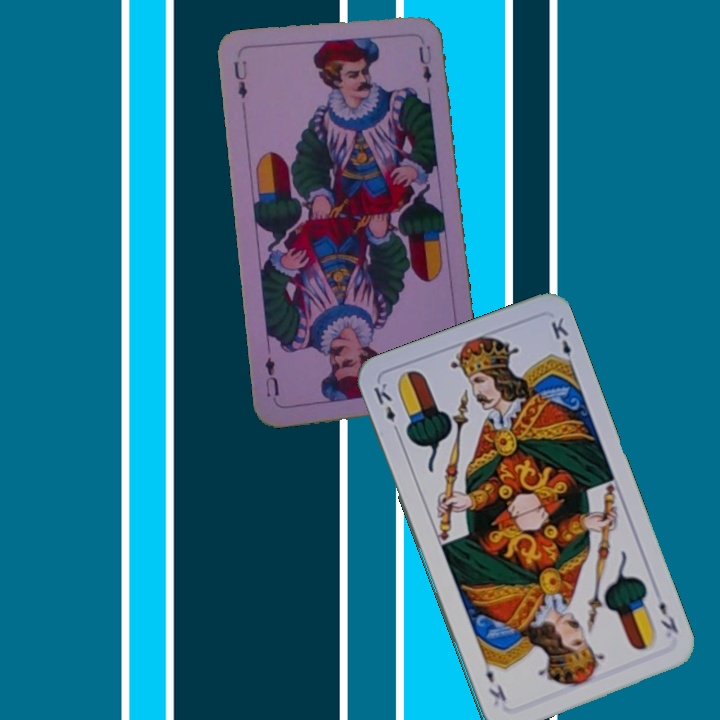EK: (369, 378, 403, 437), (655, 597, 681, 636)
EU: (230, 56, 250, 101)
